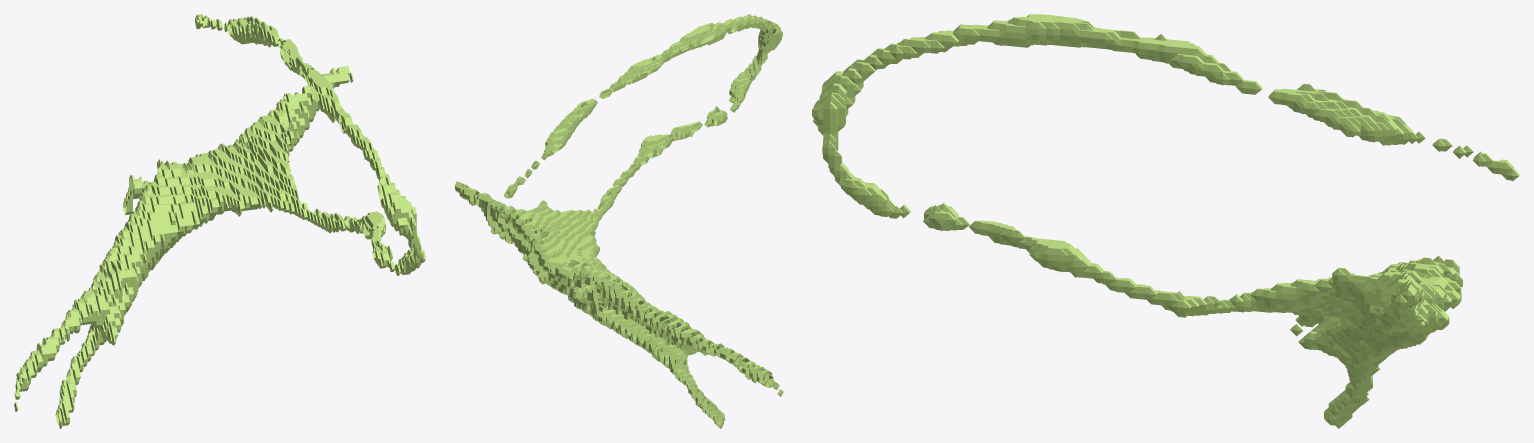
The model's file is SVV_URADL.gltf.
3 renders of one model, left to right at view 1: azimuth 30°, elevation 25°; view 2: azimuth 150°, elevation 25°; view 3: azimuth 270°, elevation 25°, orthographic. The views are drawn at different scales.
Parts seen in each view (by area): view 1: URADL; view 2: URADL; view 3: URADL.
Part boxes in pixels (x1,y1,x2,y2): URADL: (14, 14, 425, 428); URADL: (454, 14, 783, 428); URADL: (812, 14, 1519, 428).
Bounding box in the file's own units: 53315 × 53416 × 68943.
